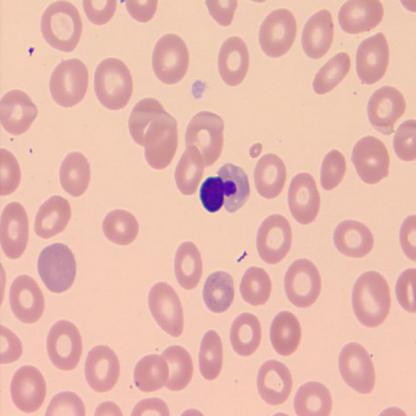NRC: (197, 162, 251, 216)
